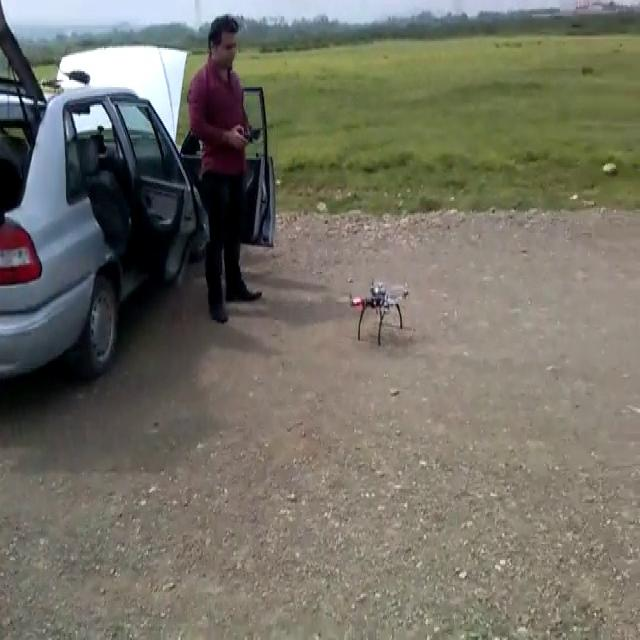drone: (346, 274, 411, 343)
